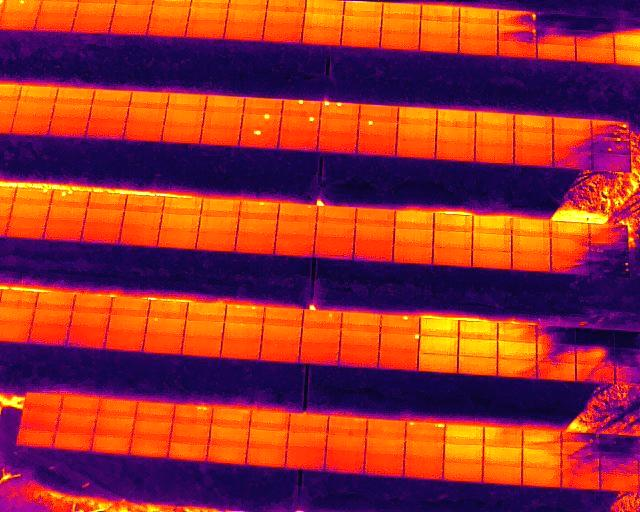Cell: (146, 317, 185, 336), (239, 130, 279, 148), (238, 199, 278, 217), (304, 310, 341, 329), (380, 333, 419, 351), (498, 9, 537, 27), (241, 114, 282, 130), (359, 120, 397, 137), (381, 316, 419, 333), (280, 101, 320, 117), (279, 116, 319, 131), (499, 28, 537, 43), (13, 189, 51, 204), (4, 0, 39, 15)
Cell-Multi: (405, 421, 444, 443), (226, 305, 264, 324), (174, 406, 211, 424), (590, 261, 630, 277), (591, 137, 630, 153), (321, 102, 359, 118), (591, 122, 629, 138), (50, 191, 91, 204)
No-Anomaly: (523, 428, 561, 451), (365, 455, 405, 476), (286, 449, 325, 470), (183, 337, 222, 357), (339, 349, 378, 369), (483, 465, 522, 485), (57, 415, 96, 435), (45, 220, 86, 239), (156, 230, 199, 248), (212, 407, 250, 427), (378, 352, 418, 371), (67, 328, 105, 348), (523, 468, 561, 488), (249, 411, 289, 430), (289, 414, 329, 433), (367, 419, 405, 439), (133, 420, 171, 440), (211, 426, 249, 446), (484, 447, 522, 467), (80, 223, 122, 241), (223, 322, 262, 341), (264, 307, 303, 326), (301, 347, 340, 366), (419, 354, 458, 373), (405, 460, 444, 479), (171, 424, 210, 443), (484, 428, 523, 447), (249, 430, 288, 449), (246, 448, 285, 467), (326, 454, 365, 473), (328, 417, 367, 436), (20, 411, 57, 431), (278, 132, 319, 150), (207, 447, 248, 465), (421, 336, 459, 355), (187, 303, 225, 322), (342, 312, 380, 331), (222, 340, 260, 359), (61, 396, 99, 415), (136, 401, 174, 420), (445, 425, 483, 444), (260, 344, 300, 362), (197, 231, 237, 249), (341, 331, 380, 349), (396, 141, 435, 159), (459, 322, 498, 340), (302, 329, 341, 347), (459, 338, 498, 356), (497, 341, 536, 359), (475, 144, 514, 162), (395, 210, 434, 228), (511, 218, 550, 236), (119, 227, 158, 245), (405, 442, 444, 460), (433, 247, 472, 265), (236, 234, 275, 252), (513, 118, 554, 135), (316, 135, 357, 152), (4, 220, 45, 237), (354, 241, 395, 258), (111, 298, 149, 316), (109, 315, 147, 333), (263, 326, 301, 344), (30, 327, 68, 345), (143, 336, 181, 354), (458, 357, 496, 375), (552, 223, 590, 241), (278, 204, 316, 222), (131, 439, 169, 457), (523, 450, 561, 468), (445, 462, 483, 480), (357, 138, 397, 155), (275, 237, 315, 254), (512, 256, 552, 273), (99, 398, 136, 416), (74, 295, 111, 313), (107, 333, 144, 351), (201, 199, 238, 217), (95, 417, 132, 435), (26, 393, 61, 412), (47, 119, 86, 136), (394, 228, 433, 245), (512, 237, 551, 254), (327, 437, 366, 454), (91, 436, 130, 453), (288, 431, 327, 448), (85, 123, 126, 139), (159, 214, 200, 230), (420, 318, 458, 335), (421, 21, 459, 38), (33, 310, 71, 327), (460, 8, 498, 25), (445, 444, 483, 461), (17, 430, 55, 447), (202, 113, 242, 129), (204, 97, 244, 113), (164, 110, 204, 126), (124, 125, 164, 141), (9, 204, 49, 220), (162, 198, 202, 214), (316, 207, 356, 223), (121, 211, 161, 227), (316, 223, 356, 239), (365, 439, 405, 455), (128, 92, 168, 108), (243, 98, 282, 114), (382, 3, 421, 19), (14, 102, 53, 118), (89, 106, 128, 122), (437, 111, 476, 127), (318, 119, 357, 135), (397, 123, 436, 139), (163, 127, 202, 143), (498, 324, 537, 340), (304, 14, 343, 30), (473, 218, 512, 234), (473, 235, 512, 251), (315, 239, 354, 255), (394, 246, 433, 262), (169, 444, 208, 460), (473, 252, 512, 268), (199, 129, 240, 144), (84, 208, 125, 223), (276, 222, 317, 237), (72, 312, 108, 329), (37, 293, 73, 310), (186, 322, 222, 339), (475, 114, 513, 130), (514, 134, 552, 150), (460, 25, 498, 41), (435, 230, 473, 246), (342, 17, 380, 33), (54, 434, 92, 450), (498, 43, 536, 59), (38, 1, 76, 17), (397, 108, 437, 123), (12, 118, 52, 133), (355, 210, 395, 225), (236, 218, 276, 233), (18, 86, 58, 101), (381, 34, 418, 50), (436, 128, 475, 143), (126, 108, 165, 123), (475, 129, 514, 144), (342, 33, 381, 48), (55, 89, 94, 104), (436, 144, 475, 159), (514, 151, 553, 166), (149, 301, 187, 316), (167, 95, 205, 110), (53, 104, 91, 119), (110, 20, 148, 35), (125, 195, 163, 210), (434, 215, 472, 230), (35, 18, 73, 33), (421, 37, 459, 52), (224, 26, 264, 40), (199, 217, 239, 231), (354, 226, 394, 240), (264, 27, 301, 42), (75, 3, 112, 18), (554, 120, 591, 135), (91, 91, 128, 106), (359, 105, 398, 119), (113, 6, 152, 20), (227, 11, 266, 25), (459, 40, 498, 54), (304, 0, 343, 14), (187, 24, 225, 38), (149, 22, 187, 36), (303, 30, 341, 44), (537, 45, 575, 59), (265, 13, 303, 27), (87, 195, 125, 209), (48, 205, 86, 219), (382, 19, 420, 33), (576, 48, 614, 62), (344, 1, 382, 15), (1, 15, 36, 30), (72, 19, 109, 33), (188, 10, 227, 23), (151, 9, 189, 22), (422, 7, 459, 20), (268, 0, 305, 13)
Shadowing: (551, 238, 590, 259), (537, 362, 576, 382), (599, 453, 638, 473), (562, 469, 600, 489), (590, 242, 629, 261), (497, 360, 537, 378), (599, 435, 639, 453), (552, 256, 590, 274), (561, 451, 598, 469), (561, 432, 598, 450), (553, 135, 592, 152), (576, 330, 614, 347), (576, 346, 613, 363), (536, 345, 575, 361), (600, 474, 639, 490), (576, 32, 614, 48), (576, 365, 614, 381), (537, 13, 575, 29), (590, 225, 628, 241), (593, 155, 630, 171), (536, 328, 575, 343), (553, 153, 592, 168), (538, 30, 576, 45), (576, 16, 614, 31)
